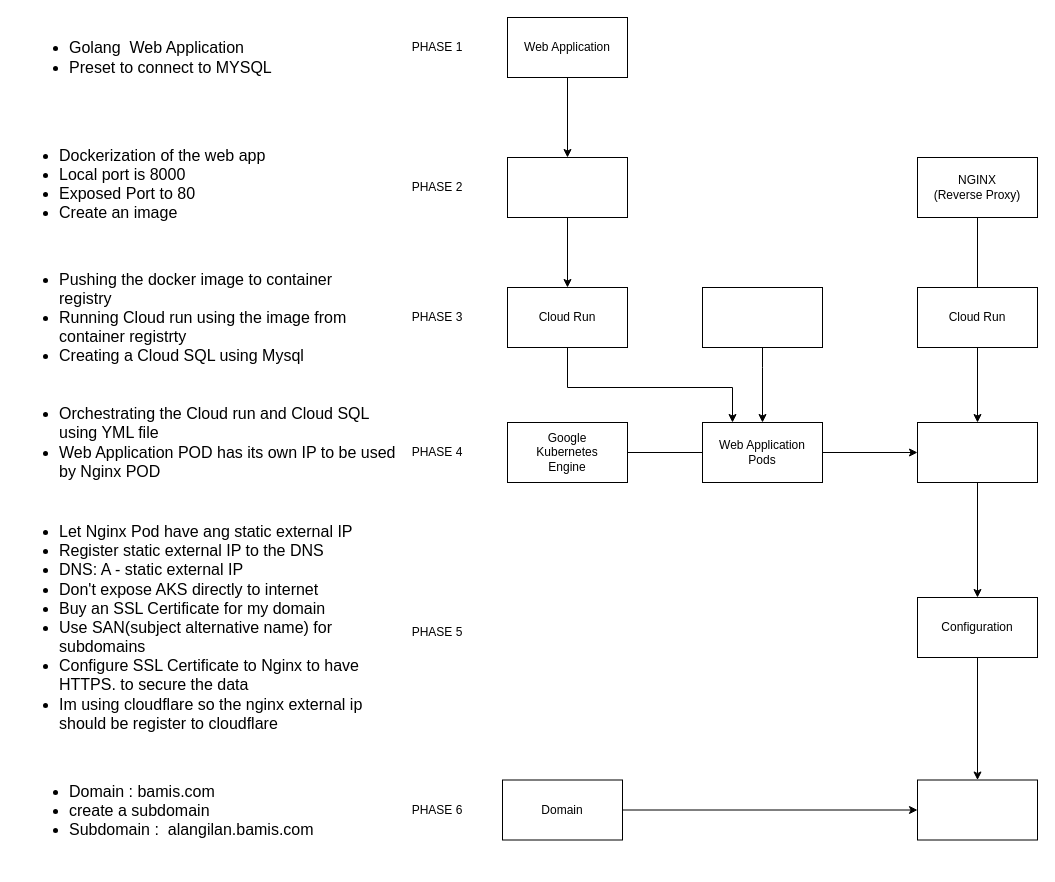
Image size: 1055x882. Some labels were removed from this diagram. The shapes that lost their labels are listed below. From the top down, each one's box as (x1, y1, x2, y2) in pixels, then its label:
(506, 156, 628, 218): Dockerize
(702, 286, 822, 348): Cloud SQL
(916, 422, 1038, 482): NGINX Pods
(916, 779, 1038, 840): Sub domain
